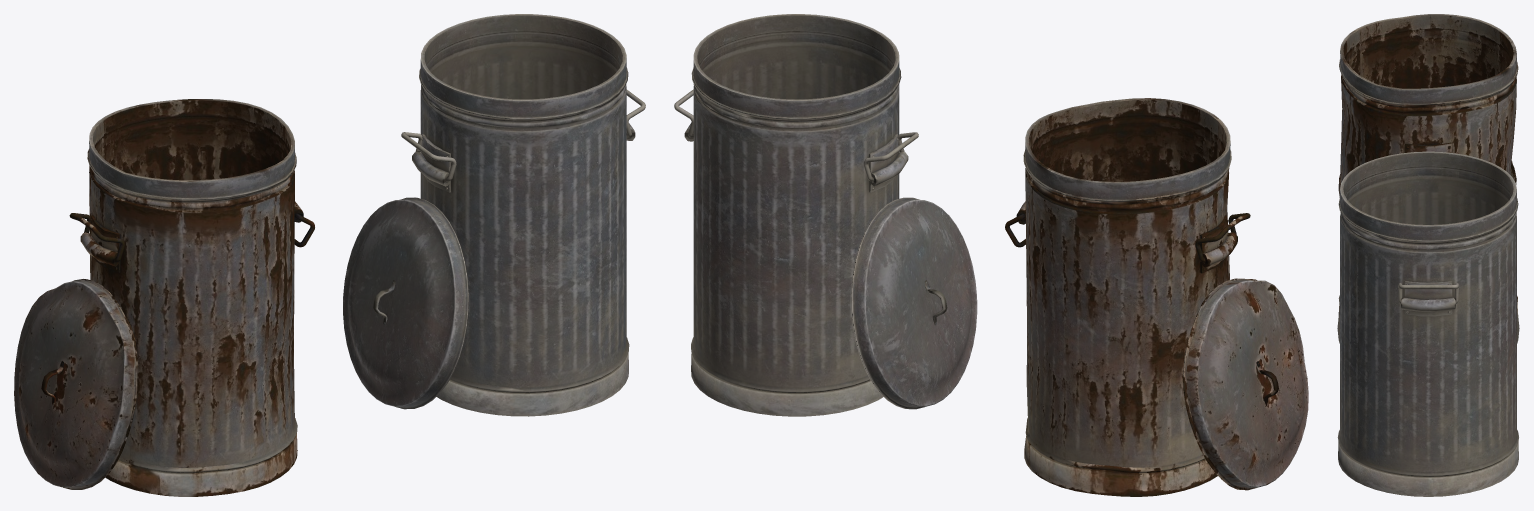
File: metal_trash_can_2k.gltf
3 views of the same model, side by side, from view 1: azimuth 30°, elevation 25°; view 2: azimuth 150°, elevation 25°; view 3: azimuth 270°, elevation 25° (orthographic). The views are drawn at different scales.
Visible parts, largest first — view 1: metal_trash_can, metal_trash_can_rust, metal_trash_can_lid, metal_trash_can_rust_lid; view 2: metal_trash_can, metal_trash_can_rust, metal_trash_can_lid, metal_trash_can_rust_lid; view 3: metal_trash_can, metal_trash_can_rust, metal_trash_can_handle_right.
Boxes of the visible parts, bbox=[...] form: metal_trash_can: bbox=[412, 14, 635, 416]; metal_trash_can_rust: bbox=[80, 99, 303, 496]; metal_trash_can_lid: bbox=[343, 197, 468, 409]; metal_trash_can_rust_lid: bbox=[14, 279, 137, 489]; metal_trash_can: bbox=[684, 14, 908, 416]; metal_trash_can_rust: bbox=[1016, 98, 1237, 496]; metal_trash_can_lid: bbox=[851, 197, 977, 409]; metal_trash_can_rust_lid: bbox=[1183, 278, 1308, 490]; metal_trash_can: bbox=[1337, 151, 1518, 496]; metal_trash_can_rust: bbox=[1338, 14, 1518, 316]; metal_trash_can_handle_right: bbox=[1398, 283, 1458, 303].
Size of the model in its own units: 1.78 by 0.9062 by 0.5543.
3 materials, 3 textured.
